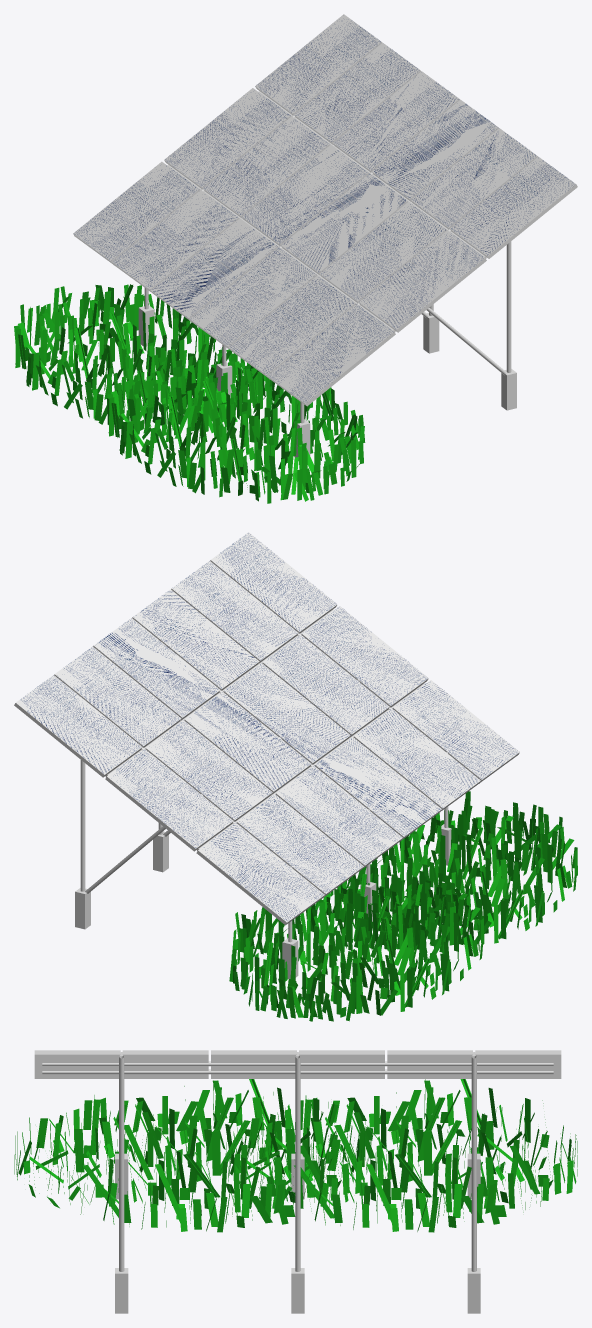
The model's file is groundSolarGrass1.glb.
The picture shows the model from 3 angles, top to bottom: view 1: azimuth 30°, elevation 25°; view 2: azimuth 150°, elevation 25°; view 3: azimuth 270°, elevation 25°; orthographic projection. The views are drawn at different scales.
Parts seen in each view (by area): view 1: Trava Kolosok.001, Trava Kolosok.003, Panel.008, Panel.003, Panel.002, Panel.007, Panel.004, Panel.005, Panel.010, Panel.001, Panel.006, Panel.011 (+9 smaller); view 2: Trava Kolosok.003, Trava Kolosok.001, Panel.001, Panel.018, Panel.014, Panel.005, Panel.008, Panel.004, Panel.007, Panel.015, Panel.006, Panel.009 (+9 smaller); view 3: Trava Kolosok.001, Trava Kolosok.003, Cylinder.018, Cylinder.010, Cylinder.011, Cylinder.012, Cylinder.013, Panel.003, Panel.014, Panel.012, Panel.013, Panel.011 (+17 smaller).
Boxes of the visible parts, x1,y1,x2,y2 form: Trava Kolosok.001: (107, 353, 365, 503); Trava Kolosok.003: (14, 284, 269, 435); Panel.008: (268, 304, 395, 406); Panel.003: (449, 156, 577, 258); Panel.002: (359, 230, 486, 332); Panel.007: (112, 190, 239, 292); Panel.004: (190, 247, 316, 349); Panel.005: (228, 275, 355, 377); Panel.010: (203, 116, 329, 218); Panel.001: (73, 161, 199, 263); Panel.006: (151, 218, 277, 320); Panel.011: (372, 99, 498, 201); Trava Kolosok.003: (229, 859, 484, 1021); Trava Kolosok.001: (326, 791, 577, 952); Panel.001: (196, 823, 324, 925); Panel.018: (105, 749, 233, 851); Panel.014: (14, 675, 142, 777); Panel.005: (353, 708, 480, 810); Panel.008: (392, 680, 519, 782); Panel.004: (314, 737, 441, 839); Panel.007: (236, 794, 363, 896); Panel.015: (184, 692, 311, 794); Panel.006: (275, 766, 402, 867); Panel.009: (262, 634, 389, 737); Trava Kolosok.001: (14, 1079, 366, 1232); Trava Kolosok.003: (226, 1079, 577, 1232); Cylinder.018: (42, 1069, 553, 1074); Cylinder.010: (42, 1061, 553, 1066); Cylinder.011: (119, 1057, 124, 1271); Cylinder.012: (471, 1057, 476, 1271); Cylinder.013: (295, 1057, 300, 1271); Panel.003: (34, 1050, 120, 1062); Panel.014: (475, 1050, 561, 1062); Panel.012: (122, 1050, 208, 1062); Panel.013: (387, 1050, 472, 1062); Panel.011: (211, 1050, 296, 1062).
Size of the model in its own units: 5.56 by 3.5 by 6.4.
Materials: 38 (18 with a texture image).
